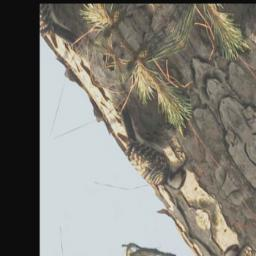Woodpecker: (105, 85, 197, 213)
